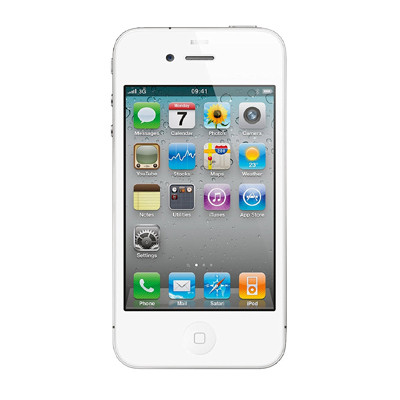Handphone: (110, 22, 294, 372)
